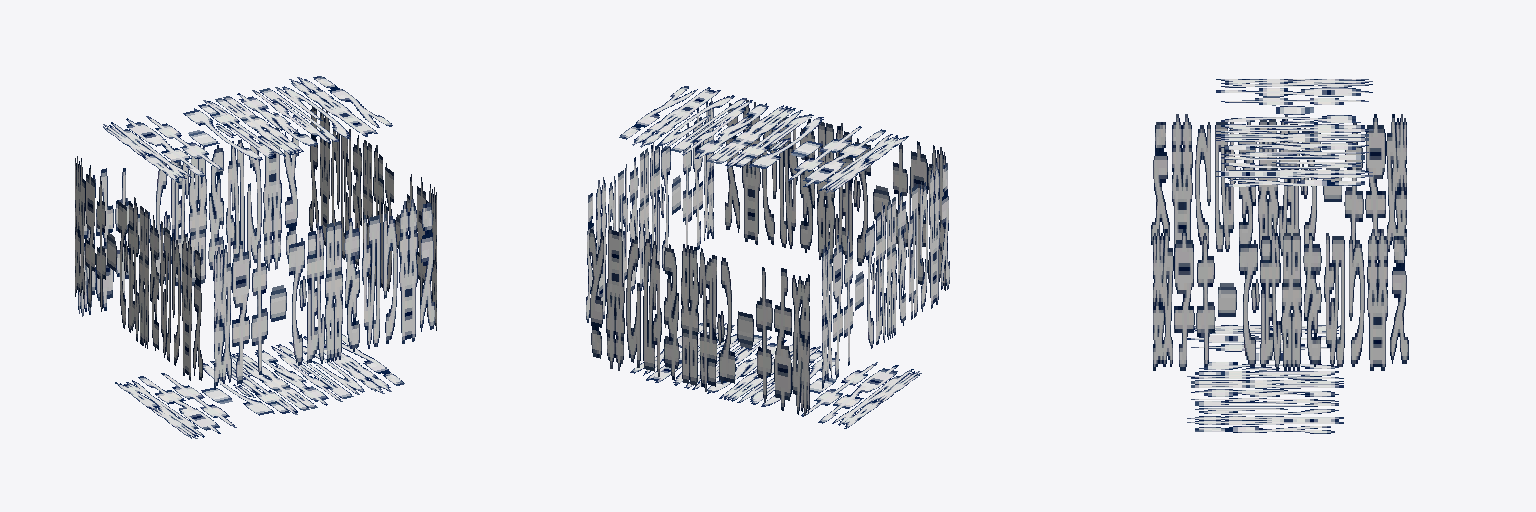
3 renders of one model, left to right at view 1: azimuth 30°, elevation 25°; view 2: azimuth 150°, elevation 25°; view 3: azimuth 270°, elevation 25°, orthographic.
Visible parts, largest first — view 1: KeyLogo; view 2: KeyLogo; view 3: KeyLogo.
Part boxes in pixels (x1,y1,x2,y2): KeyLogo: (75, 76, 436, 438); KeyLogo: (586, 86, 949, 428); KeyLogo: (1151, 79, 1408, 433).
Bounding box in the file's own units: 2 × 2 × 2.
1 materials, 1 textured.